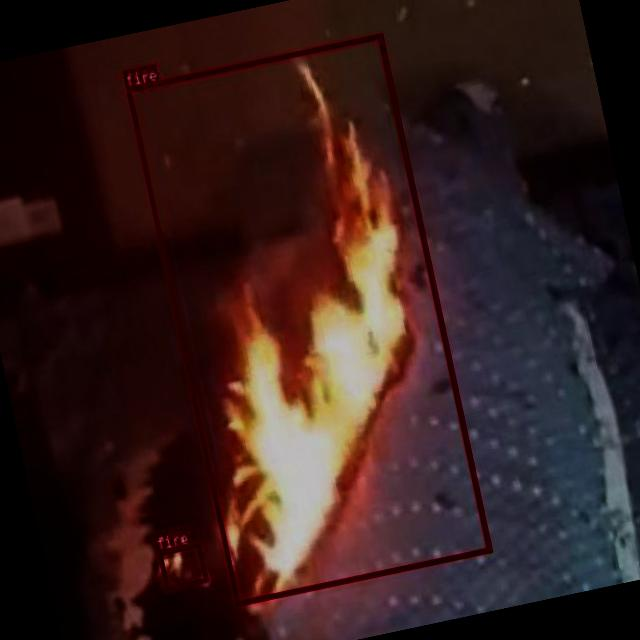fire: (126, 33, 490, 604), (156, 540, 208, 590)
